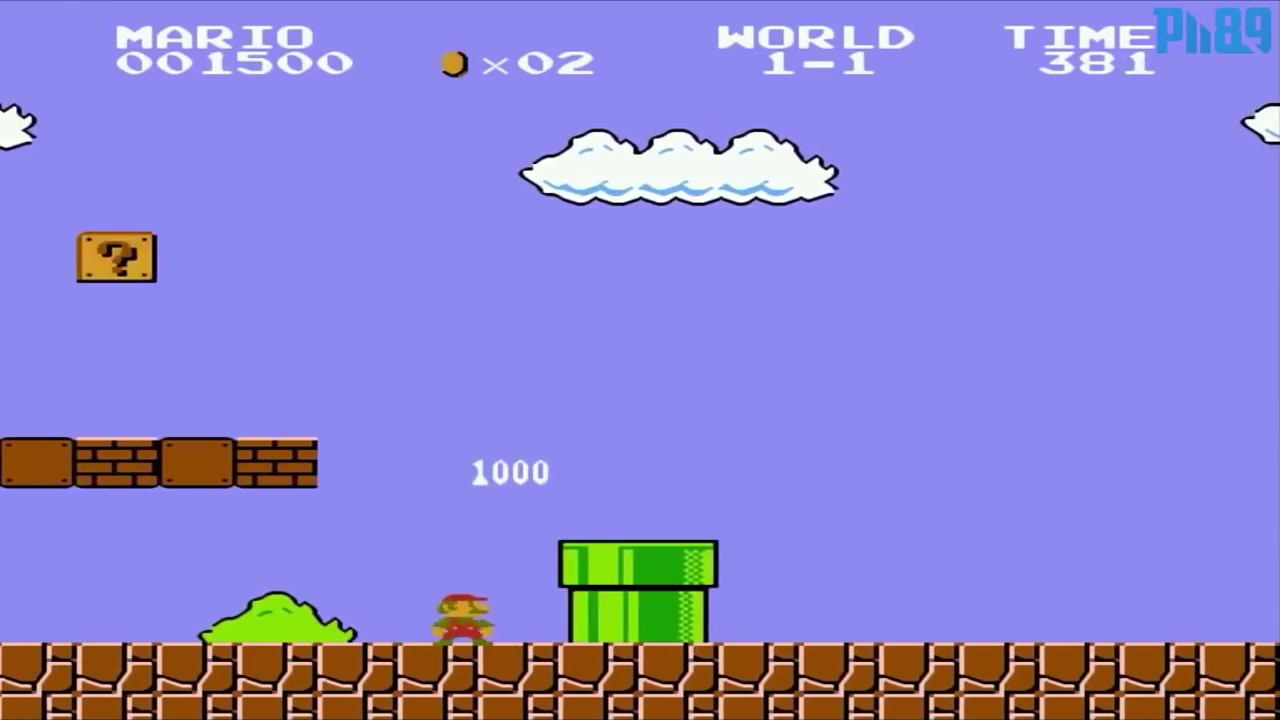mario: (430, 584, 496, 644)
